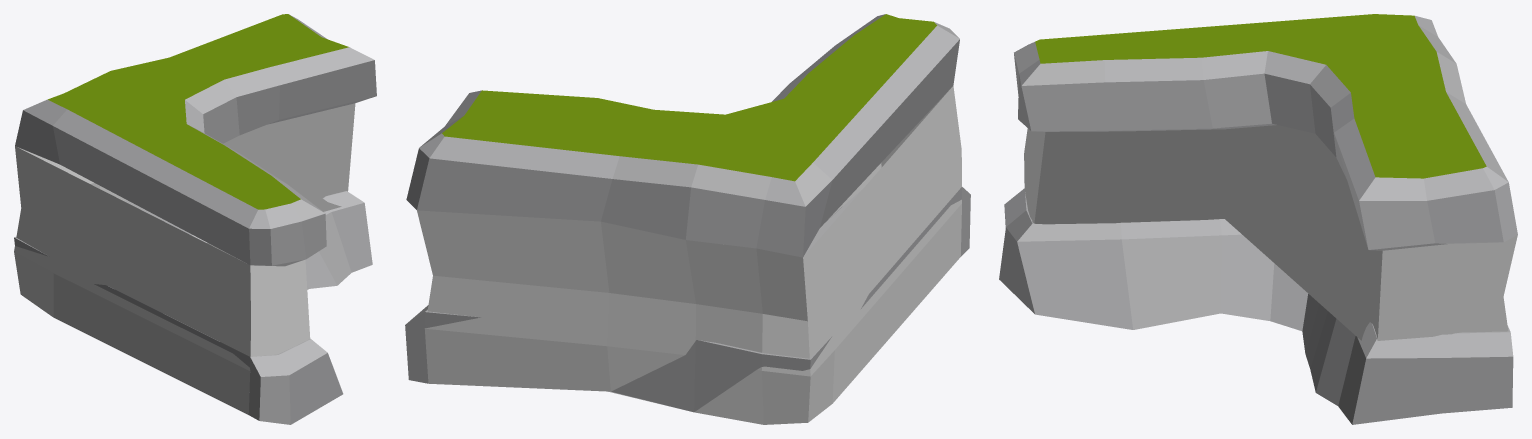
Rendered from CliffCorner2FlatShaded.fbx.
3 views of the same model, side by side, from view 1: azimuth 30°, elevation 25°; view 2: azimuth 150°, elevation 25°; view 3: azimuth 270°, elevation 25° (orthographic). The views are drawn at different scales.
Parts seen in each view (by area): view 1: Plane.016, Plane.017, Plane.015, Plane.018; view 2: Plane.016, Plane.017, Plane.015, Plane.018; view 3: Plane.016, Plane.018, Plane.017, Plane.015.
Part boxes in pixels (<box>): Plane.016: <box>14,103,355,414</box>; Plane.017: <box>15,14,376,266</box>; Plane.015: <box>48,14,348,209</box>; Plane.018: <box>14,191,372,424</box>; Plane.016: <box>417,86,961,424</box>; Plane.017: <box>406,14,959,257</box>; Plane.015: <box>442,14,936,181</box>; Plane.018: <box>405,187,970,412</box>; Plane.016: <box>1024,125,1517,340</box>; Plane.018: <box>999,188,1513,424</box>; Plane.017: <box>1014,16,1517,250</box>; Plane.015: <box>1035,14,1486,178</box>.
Bounding box in the file's own units: 3617 × 2378 × 4335.
